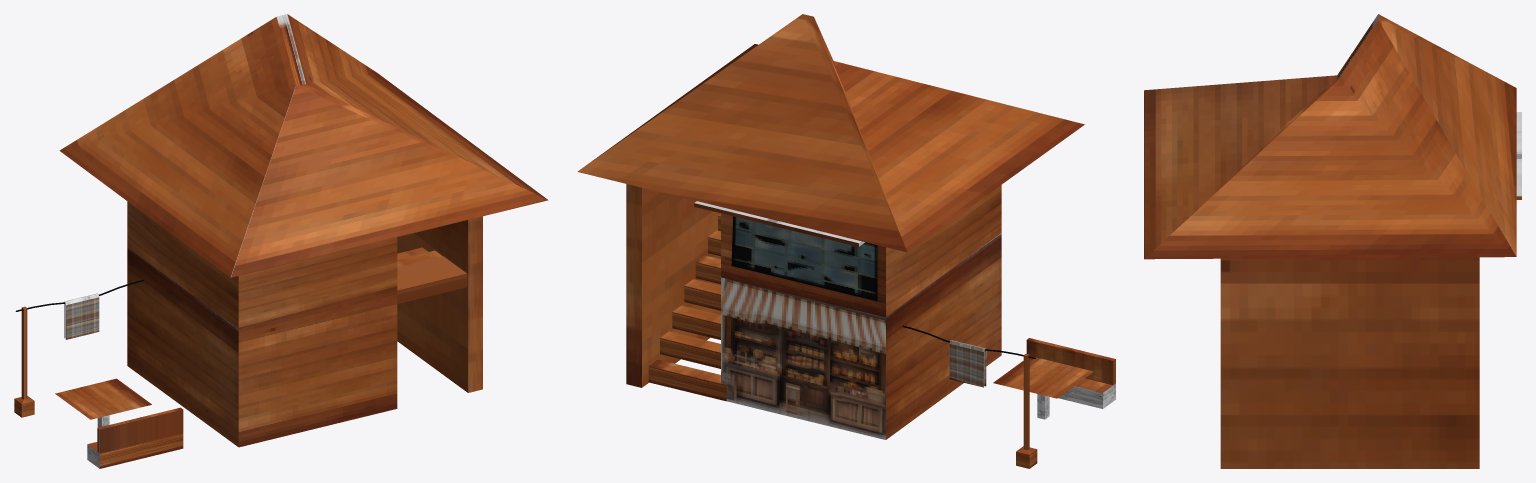
Rendered from bakery.fbx.
3 views of the same model, side by side, from view 1: azimuth 30°, elevation 25°; view 2: azimuth 150°, elevation 25°; view 3: azimuth 270°, elevation 25° (orthographic). The views are drawn at different scales.
Visible parts, largest first — view 1: Cube.010, Cube, Cube.001, Cube.013, Cube.011; view 2: Cube, Cube.010, Cube.001, Cube.013, Cube.011; view 3: Cube.010, Cube.
Boxes of the visible parts, x1=… form: Cube.010: x1=59, y1=14, x2=548, y2=277; Cube: x1=127, y1=201, x2=482, y2=447; Cube.001: x1=55, y1=378, x2=183, y2=468; Cube.013: x1=64, y1=293, x2=99, y2=339; Cube.011: x1=14, y1=306, x2=34, y2=417; Cube: x1=626, y1=184, x2=1001, y2=439; Cube.010: x1=577, y1=14, x2=1084, y2=252; Cube.001: x1=993, y1=338, x2=1115, y2=419; Cube.013: x1=949, y1=340, x2=986, y2=387; Cube.011: x1=1016, y1=353, x2=1037, y2=468; Cube.010: x1=1144, y1=14, x2=1516, y2=259; Cube: x1=1220, y1=112, x2=1521, y2=468.
Size of the model in its own units: 5355 by 4565 by 4009.
